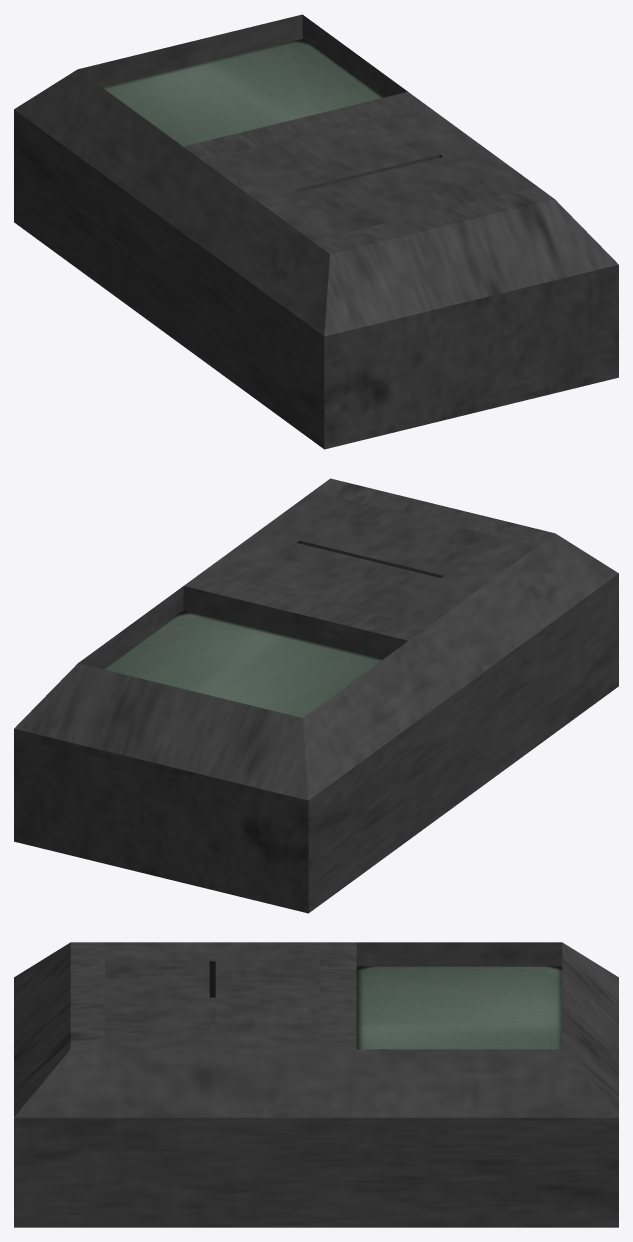
The model's file is scp_doorkeycard.dae.
3 views of the same model, one above another, from view 1: azimuth 30°, elevation 25°; view 2: azimuth 150°, elevation 25°; view 3: azimuth 270°, elevation 25° (orthographic). The views are drawn at different scales.
Parts seen in each view (by area): view 1: Object_2; view 2: Object_2; view 3: Object_2.
Boxes of the visible parts, bbox=[...] form: Object_2: bbox=[14, 14, 618, 449]; Object_2: bbox=[14, 478, 618, 913]; Object_2: bbox=[14, 942, 618, 1227].
Bounding box in the file's own units: 2.77 × 5.05 × 1.49.
1 material, 1 textured.
